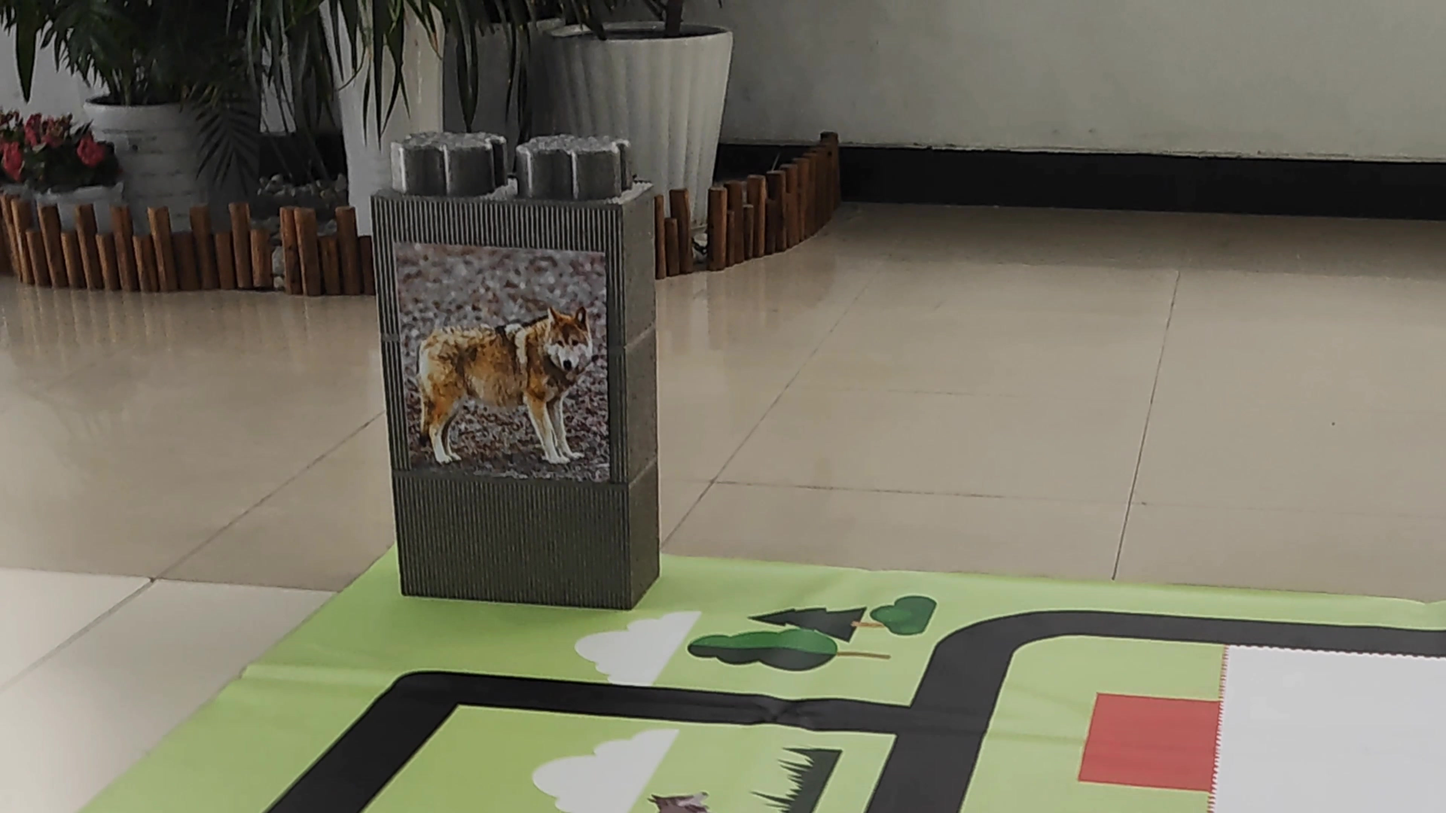wolf: (399, 245, 603, 497)
